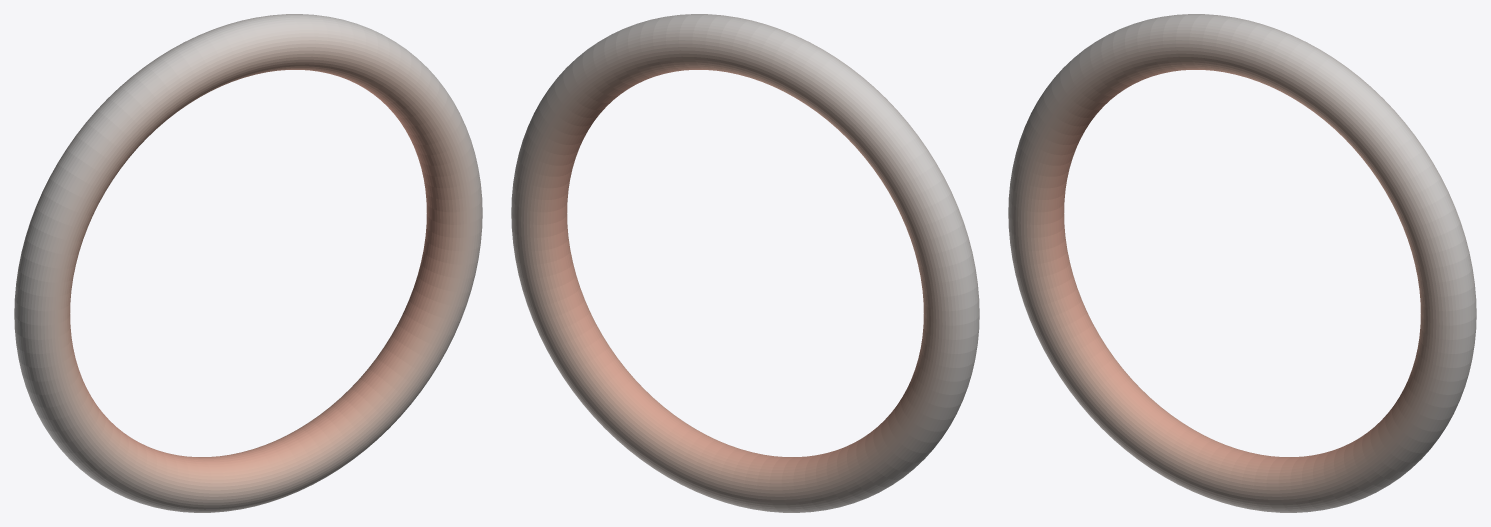
3 renders of one model, left to right at view 1: azimuth 30°, elevation 25°; view 2: azimuth 150°, elevation 25°; view 3: azimuth 330°, elevation 25°, orthographic.
Parts seen in each view (by area): view 1: world; view 2: world; view 3: world.
Part boxes in pixels (x1,y1,x2,y2): world: (14,14,482,512); world: (511,14,979,512); world: (1008,14,1476,512).
Bounding box in the file's own units: 21.6 × 21.6 × 2.26.
